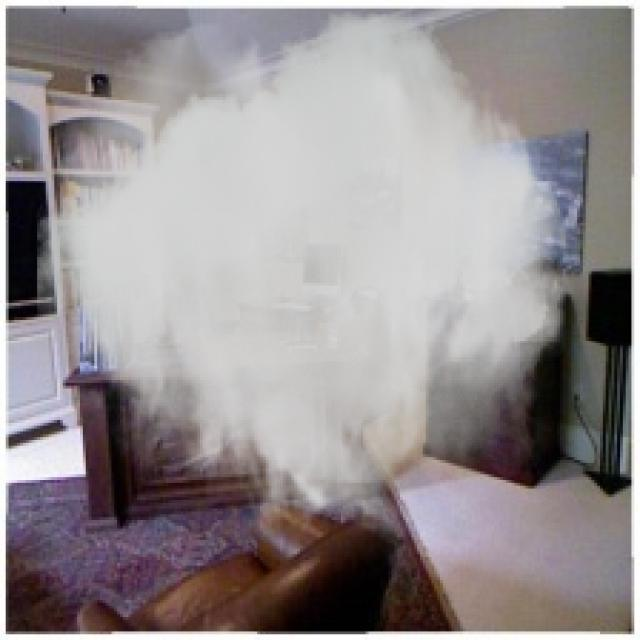Smoke: (37, 11, 574, 548)
